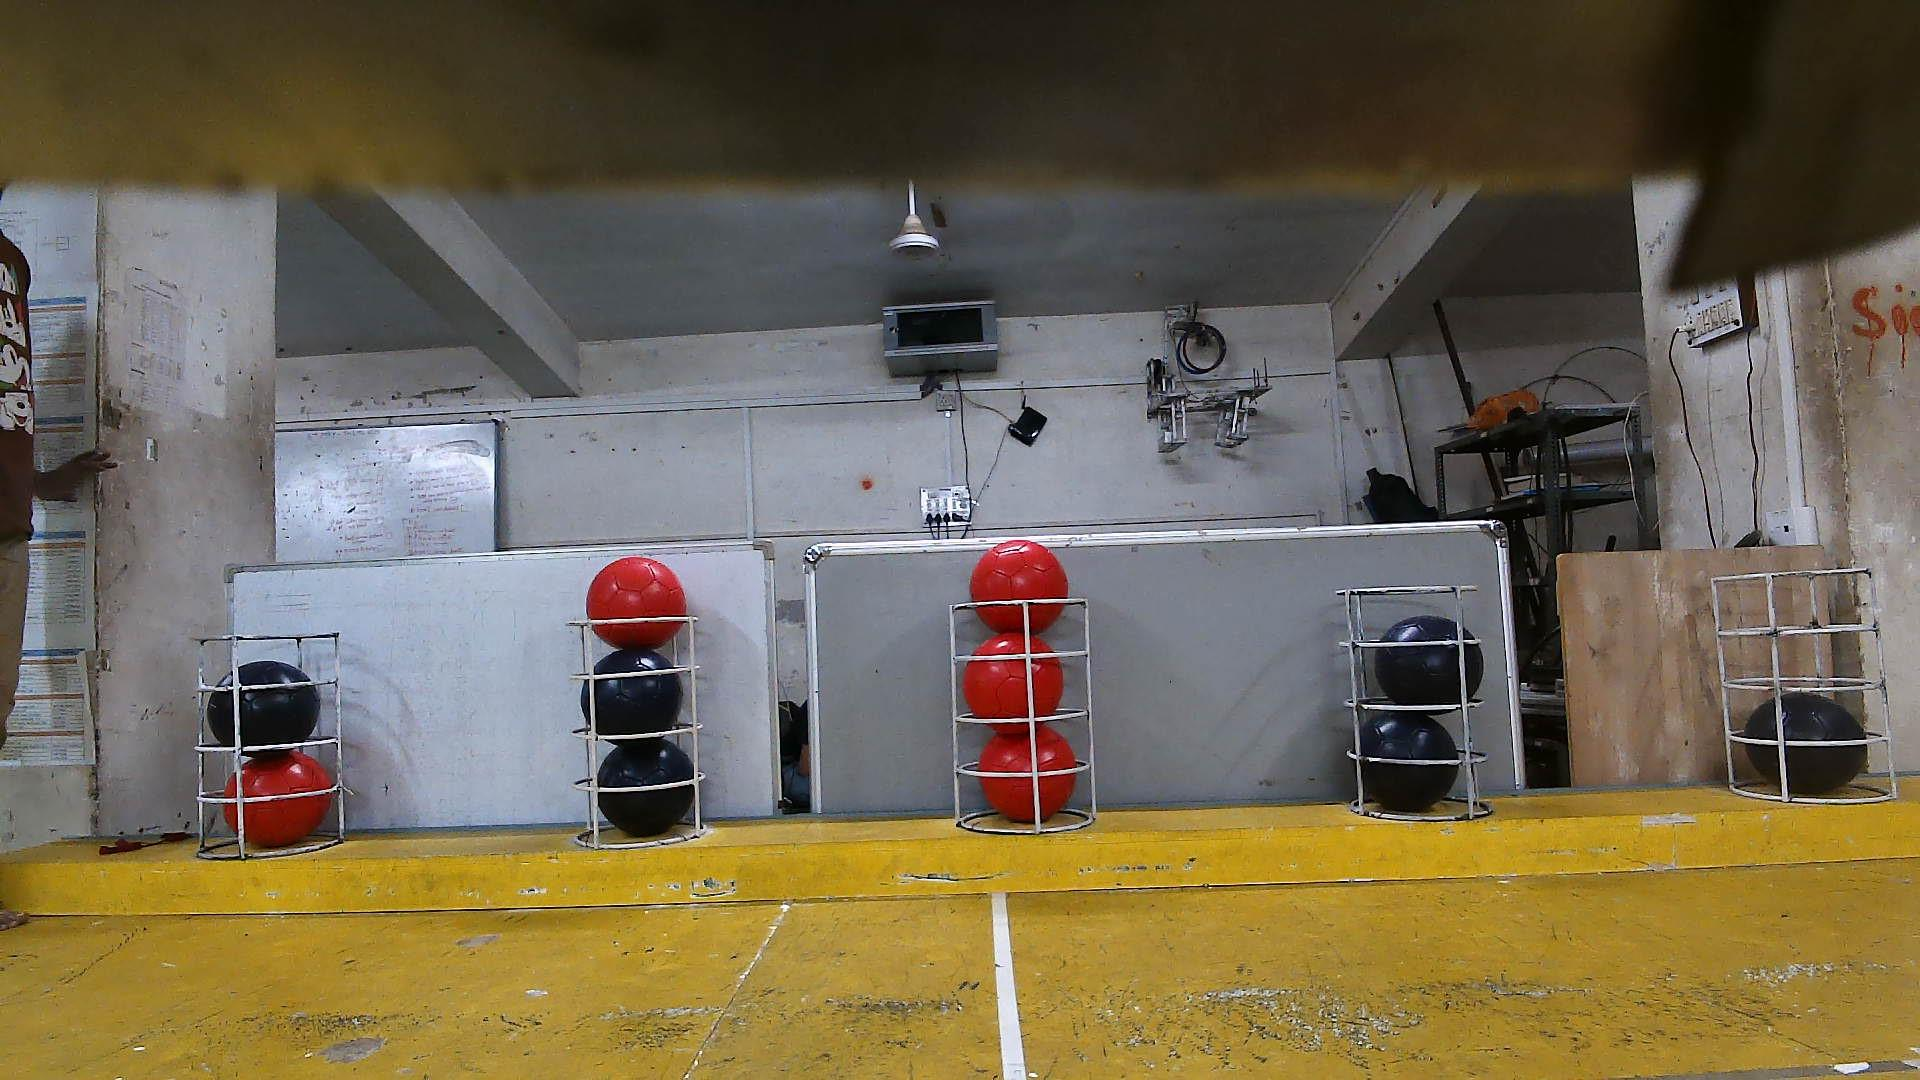dhoka: (1744, 690, 1868, 795), (1361, 712, 1462, 814), (206, 660, 322, 748), (1372, 615, 1485, 705), (596, 739, 694, 836), (581, 645, 682, 735)
laale: (221, 750, 334, 851), (585, 555, 686, 649), (971, 540, 1069, 634), (964, 630, 1065, 720), (979, 728, 1076, 821)
